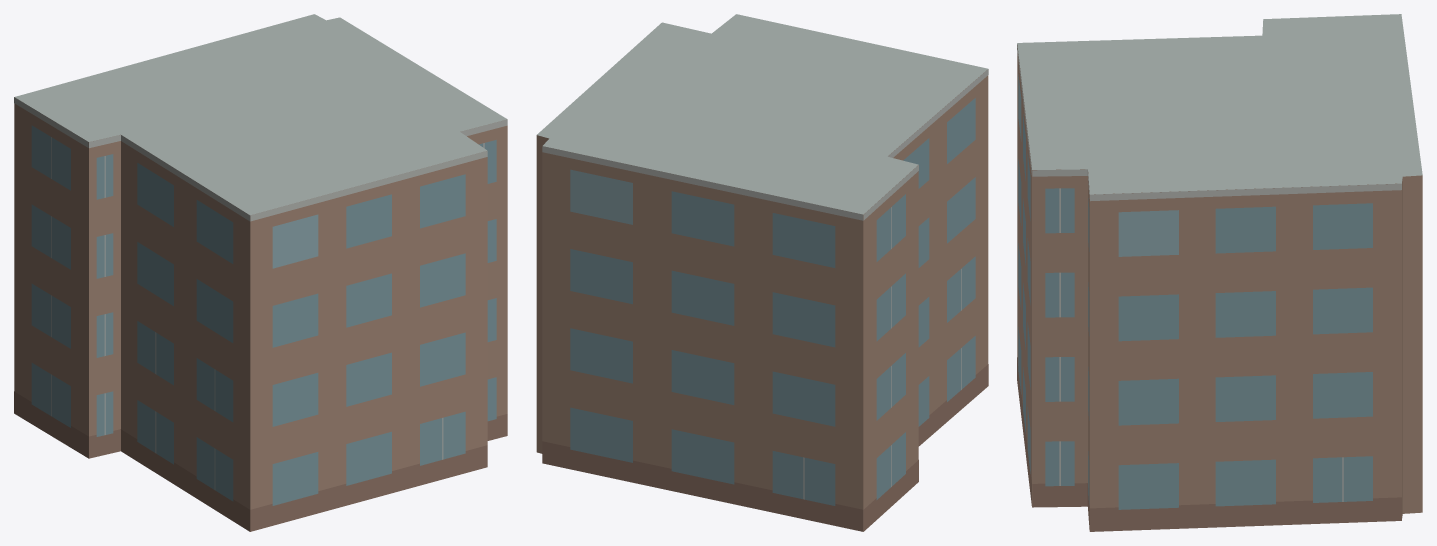
The model's file is survey-upis-32663593.glb.
3 renders of one model, left to right at view 1: azimuth 30°, elevation 25°; view 2: azimuth 150°, elevation 25°; view 3: azimuth 270°, elevation 25°, orthographic. The views are drawn at different scales.
Visible parts, largest first — view 1: survey-upis-32663593.tmp; view 2: survey-upis-32663593.tmp; view 3: survey-upis-32663593.tmp.
Part boxes in pixels (x1,y1,x2,y2): survey-upis-32663593.tmp: (14,14,507,531); survey-upis-32663593.tmp: (536,14,988,531); survey-upis-32663593.tmp: (1017,14,1422,531).
Bounding box in the file's own units: 14.36 × 12.5 × 13.63.
